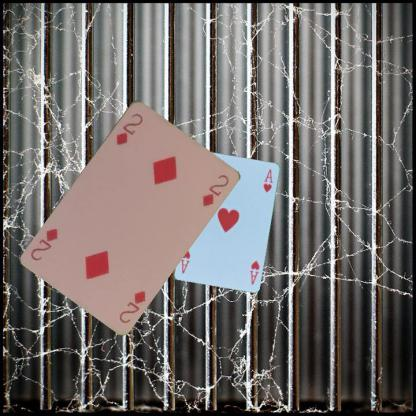2d: (112, 110, 145, 147), (116, 287, 147, 325)
Ah: (246, 258, 260, 285)
